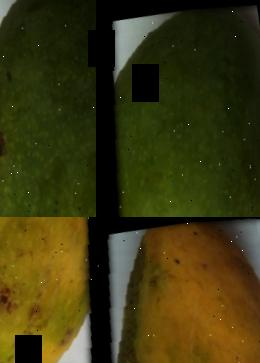PartiallyRipe: (0, 217, 96, 363)
Ripe: (96, 217, 260, 363)
Unripe: (96, 0, 260, 217), (0, 0, 96, 217)
